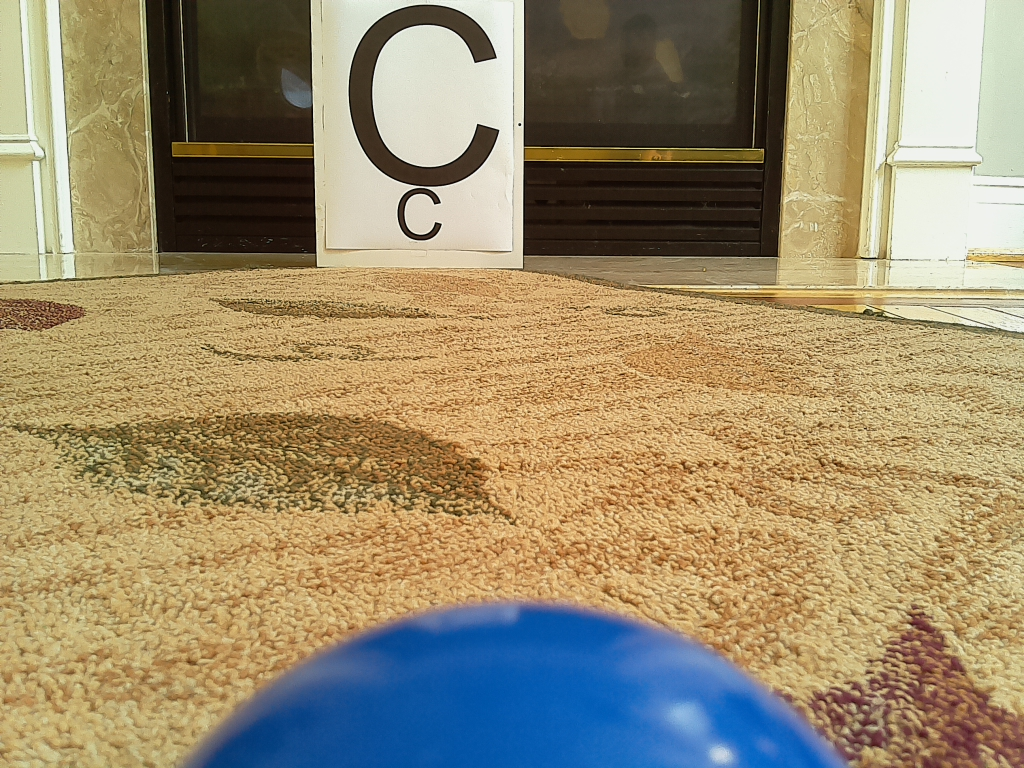letter: (349, 6, 500, 188)
